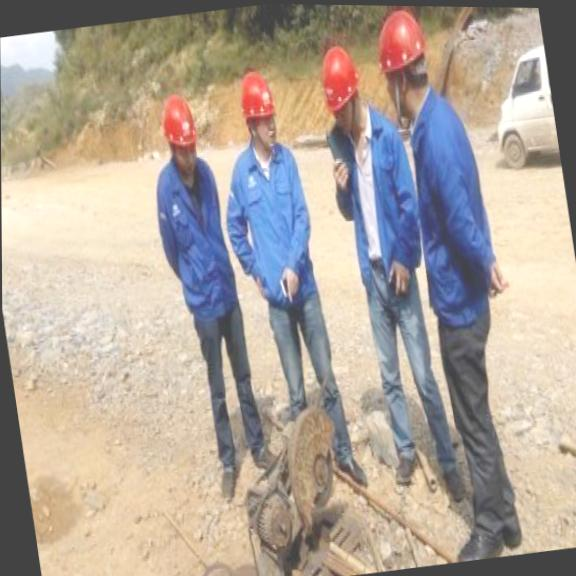no_safety_vest: (396, 91, 507, 323), (323, 109, 427, 288), (216, 143, 322, 315), (150, 156, 243, 330)
